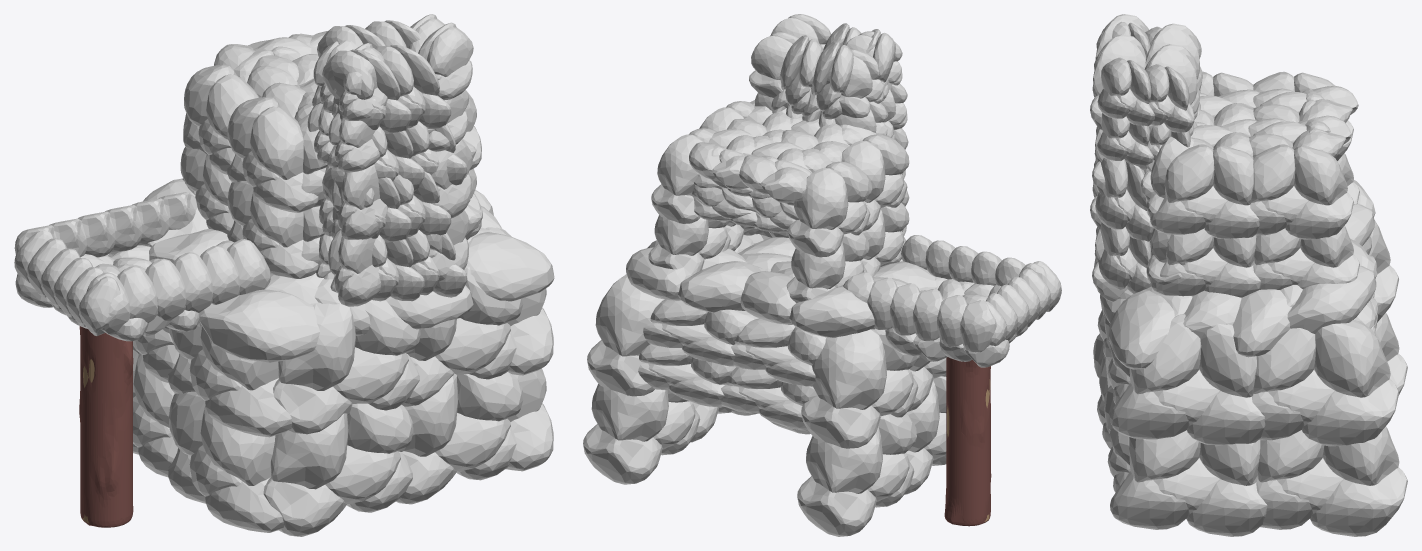
The model's file is oven.fbx.
The picture shows the model from 3 angles, left to right: view 1: azimuth 30°, elevation 25°; view 2: azimuth 150°, elevation 25°; view 3: azimuth 270°, elevation 25°; orthographic projection. The views are drawn at different scales.
Parts seen in each view (by area): view 1: Icosphere.019, Cylinder.001; view 2: Icosphere.019, Cylinder.001; view 3: Icosphere.019.
Part boxes in pixels (<box>): Icosphere.019: <box>14,14,554,536</box>; Cylinder.001: <box>79,326,133,527</box>; Icosphere.019: <box>583,14,1061,536</box>; Cylinder.001: <box>944,357,991,526</box>; Icosphere.019: <box>1090,14,1407,536</box>.
Size of the model in its own units: 1252 by 1256 by 823.
